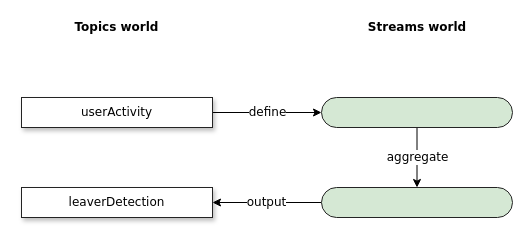
Some shapes in this 530 by 242 pixel diagram are drawn without their labels. The centre of each missing label's shape, as x and y in pixels:
"stream_userActivity" goes at point 416,112.
"table_leaverDetection" goes at point 416,202.
